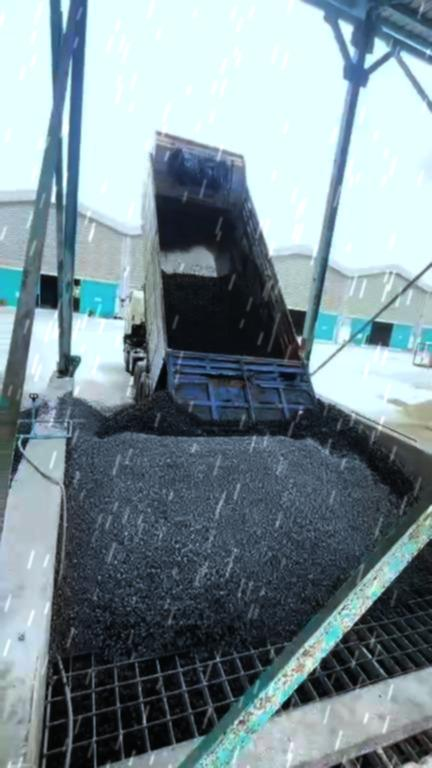gravel: (53, 389, 419, 657), (164, 275, 278, 356), (371, 547, 431, 620)
sand: (370, 396, 431, 449)
